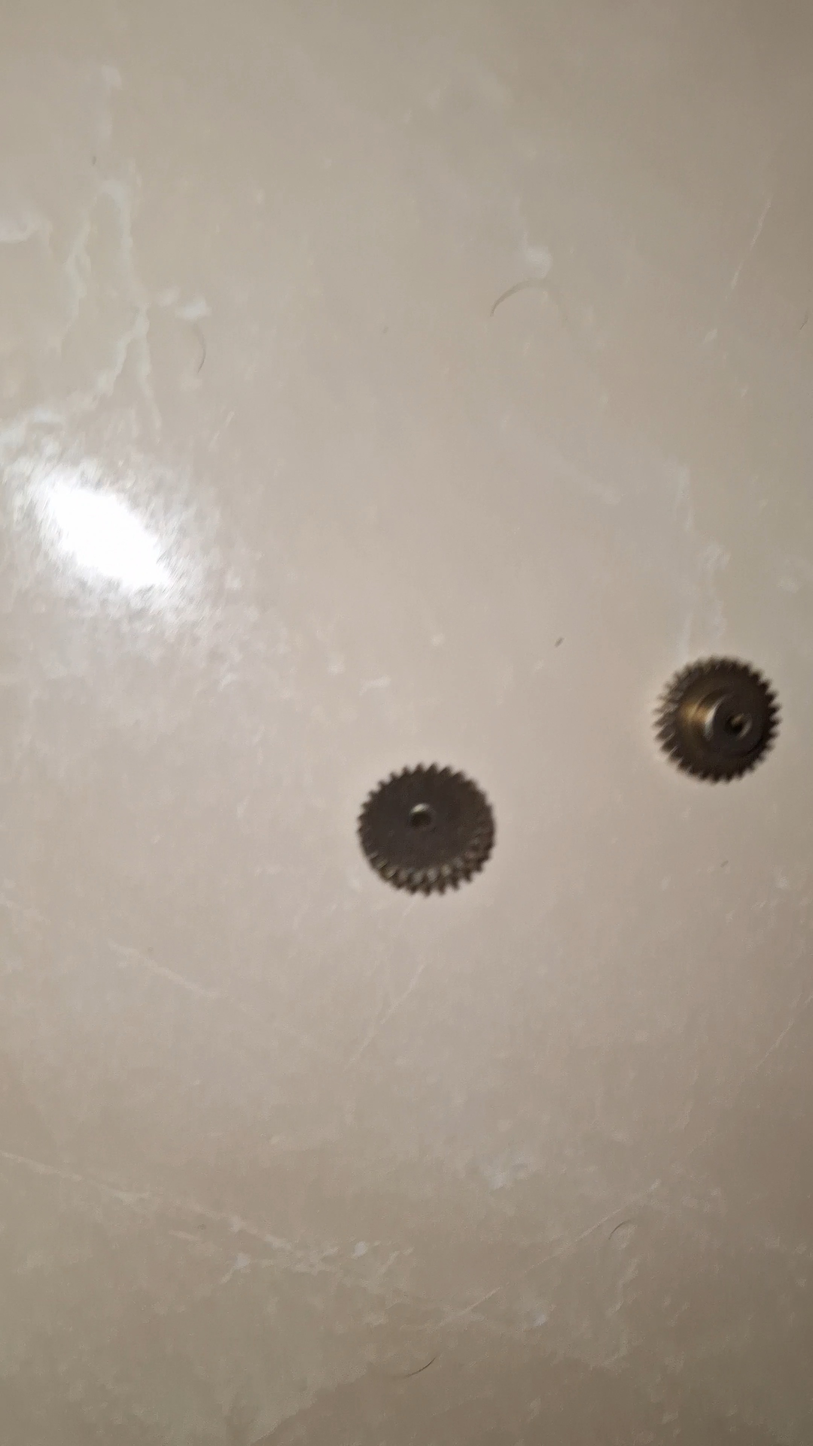spur gear: (358, 765, 495, 894), (656, 658, 778, 781)
